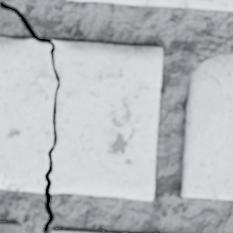brick: (180, 54, 232, 199), (68, 0, 232, 10), (0, 220, 21, 232), (51, 229, 122, 232)
broken_brick: (50, 40, 161, 199), (0, 37, 56, 191)
crack: (0, 1, 60, 231)
